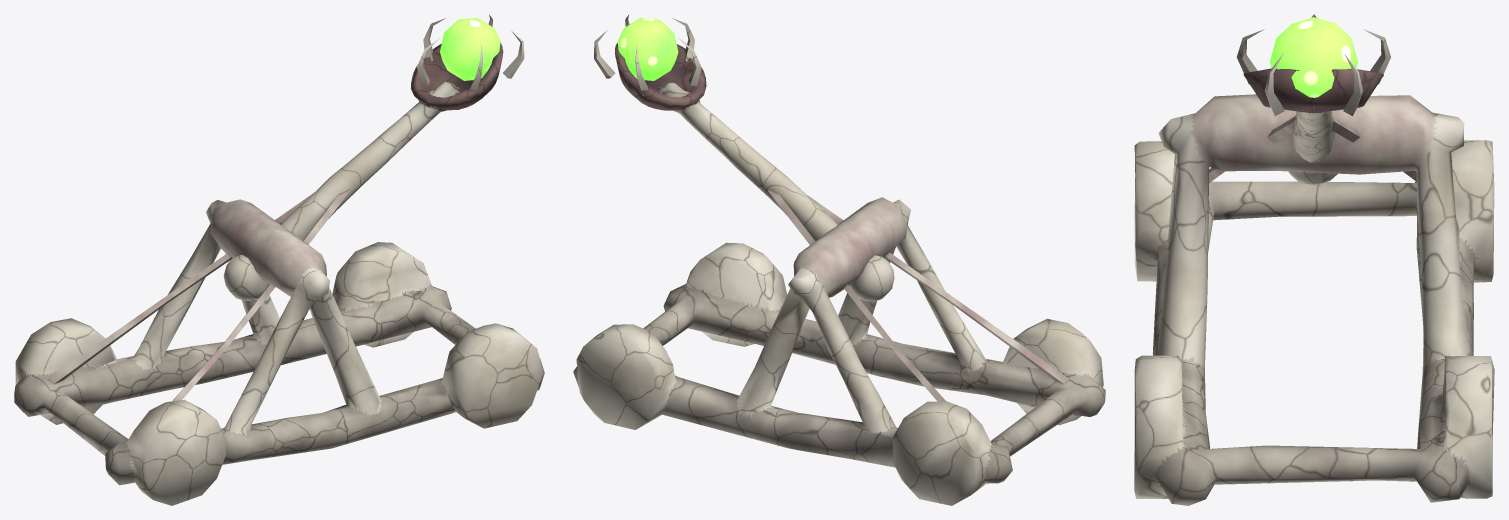
The model's file is catapulta_organica.fbx.
3 renders of one model, left to right at view 1: azimuth 30°, elevation 25°; view 2: azimuth 150°, elevation 25°; view 3: azimuth 270°, elevation 25°, orthographic. The views are drawn at different scales.
Parts seen in each view (by area): view 1: bastidor, brazo, proyectil_neon; view 2: bastidor, brazo, proyectil_neon; view 3: bastidor, brazo, proyectil_neon.
Part boxes in pixels (x1=…): bastidor: x1=14, y1=189, x2=544, y2=505; brazo: x1=223, y1=14, x2=524, y2=300; proyectil_neon: x1=440, y1=17, x2=500, y2=80; bastidor: x1=573, y1=190, x2=1105, y2=505; brazo: x1=594, y1=15, x2=894, y2=301; proyectil_neon: x1=617, y1=18, x2=678, y2=80; bastidor: x1=1134, y1=94, x2=1494, y2=505; brazo: x1=1236, y1=14, x2=1390, y2=185; proyectil_neon: x1=1269, y1=17, x2=1357, y2=106.
Size of the model in its own units: 4.01 by 3 by 2.
Materials: 1 (1 with a texture image).
